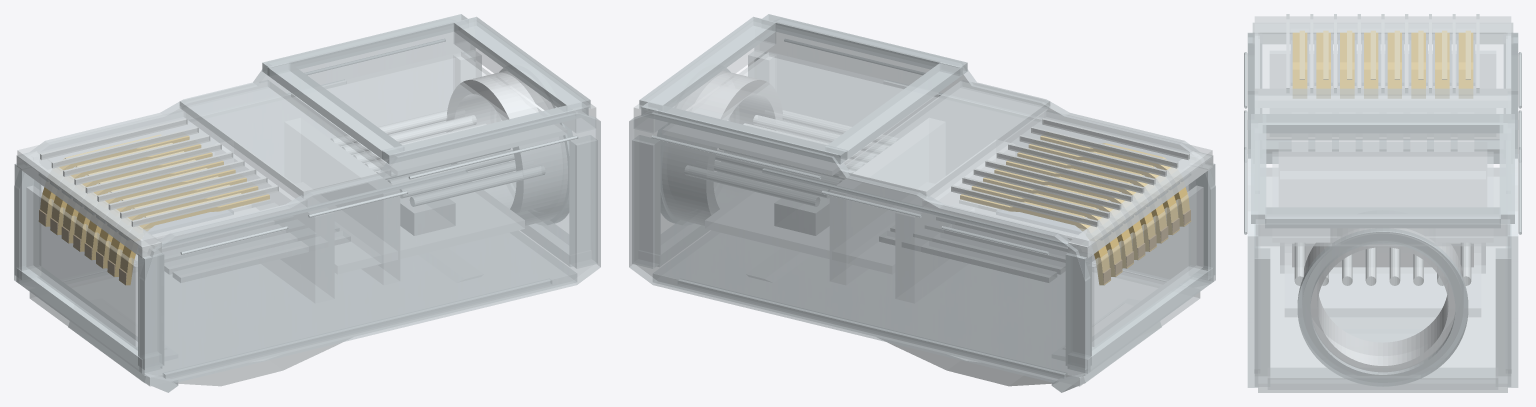
3 renders of one model, left to right at view 1: azimuth 30°, elevation 25°; view 2: azimuth 150°, elevation 25°; view 3: azimuth 270°, elevation 25°, orthographic. The views are drawn at different scales.
Visible parts, largest first — view 1: 02_Badan_lutsinar_sisi_kanan_4K, 11_Dasar_badan_lutsinar, 01_Badan_lutsinar_sisi_kiri_4K, 03_Penutup_atas_hidung_jernih, 09_Lantai_lekuk_atas_melalui_plastik, 04_Atap_bahu_peralihan, 19b_Muka_telus_depan_dengan_8_laluan, 34_Terowong_kemasukan_kabel_cincin, 27_Gerbang_dalaman_kedua, 26_Gerbang_dalaman_pertama, 28_Panduan_dalaman_bawah, 17_Front_lower_rail (+45 smaller); view 2: 01_Badan_lutsinar_sisi_kiri_4K, 11_Dasar_badan_lutsinar, 02_Badan_lutsinar_sisi_kanan_4K, 03_Penutup_atas_hidung_jernih, 09_Lantai_lekuk_atas_melalui_plastik, 04_Atap_bahu_peralihan, 19b_Muka_telus_depan_dengan_8_laluan, 34_Terowong_kemasukan_kabel_cincin, 27_Gerbang_dalaman_kedua, 26_Gerbang_dalaman_pertama, 28_Panduan_dalaman_bawah, 17_Front_lower_rail (+45 smaller); view 3: 11_Dasar_badan_lutsinar, 03_Penutup_atas_hidung_jernih, 09_Lantai_lekuk_atas_melalui_plastik, 34_Terowong_kemasukan_kabel_cincin, 04_Atap_bahu_peralihan, 27_Gerbang_dalaman_kedua, 35_Pinggir_lubang_kabel, 28_Panduan_dalaman_bawah, 10_Bibir_pintu_masuk_belakang_atas, 26_Gerbang_dalaman_pertama, 07_Bingkai_atas_tengah_belakang, 08_Bingkai_atas_depan_belakang (+58 smaller).
Boxes of the visible parts, box(x1,y1,x2,y2) form: 02_Badan_lutsinar_sisi_kanan_4K: box(139, 110, 600, 382); 11_Dasar_badan_lutsinar: box(29, 231, 576, 386); 01_Badan_lutsinar_sisi_kiri_4K: box(14, 20, 475, 283); 03_Penutup_atas_hidung_jernih: box(17, 110, 307, 247); 09_Lantai_lekuk_atas_melalui_plastik: box(291, 52, 566, 175); 04_Atap_bahu_peralihan: box(179, 80, 390, 198); 19b_Muka_telus_depan_dengan_8_laluan: box(26, 185, 137, 346); 34_Terowong_kemasukan_kabel_cincin: box(446, 70, 567, 225); 27_Gerbang_dalaman_kedua: box(285, 118, 399, 284); 26_Gerbang_dalaman_pertama: box(215, 140, 333, 302); 28_Panduan_dalaman_bawah: box(335, 190, 524, 273); 17_Front_lower_rail: box(16, 266, 162, 373); 01_Badan_lutsinar_sisi_kiri_4K: box(629, 110, 1090, 382); 11_Dasar_badan_lutsinar: box(653, 231, 1200, 386); 02_Badan_lutsinar_sisi_kanan_4K: box(754, 20, 1215, 283); 03_Penutup_atas_hidung_jernih: box(922, 110, 1212, 247); 09_Lantai_lekuk_atas_melalui_plastik: box(663, 52, 938, 175); 04_Atap_bahu_peralihan: box(839, 80, 1050, 198); 19b_Muka_telus_depan_dengan_8_laluan: box(1092, 185, 1203, 346); 34_Terowong_kemasukan_kabel_cincin: box(662, 70, 783, 225); 27_Gerbang_dalaman_kedua: box(830, 118, 944, 284); 26_Gerbang_dalaman_pertama: box(896, 140, 1014, 302); 28_Panduan_dalaman_bawah: box(705, 190, 894, 273); 17_Front_lower_rail: box(1067, 266, 1213, 373); 11_Dasar_badan_lutsinar: box(1258, 167, 1507, 392); 03_Penutup_atas_hidung_jernih: box(1254, 16, 1511, 107); 09_Lantai_lekuk_atas_melalui_plastik: box(1272, 151, 1493, 242); 34_Terowong_kemasukan_kabel_cincin: box(1302, 228, 1463, 378); 04_Atap_bahu_peralihan: box(1254, 88, 1511, 140); 27_Gerbang_dalaman_kedua: box(1280, 171, 1485, 273); 35_Pinggir_lubang_kabel: box(1297, 228, 1468, 386); 28_Panduan_dalaman_bawah: box(1284, 246, 1481, 317); 10_Bibir_pintu_masuk_belakang_atas: box(1255, 215, 1510, 246); 26_Gerbang_dalaman_pertama: box(1278, 142, 1487, 206); 07_Bingkai_atas_tengah_belakang: box(1265, 207, 1500, 228); 08_Bingkai_atas_depan_belakang: box(1263, 114, 1502, 133).
Bounding box in the file's own units: 23.65 × 10.96 × 12.
11 materials, 1 textured.
